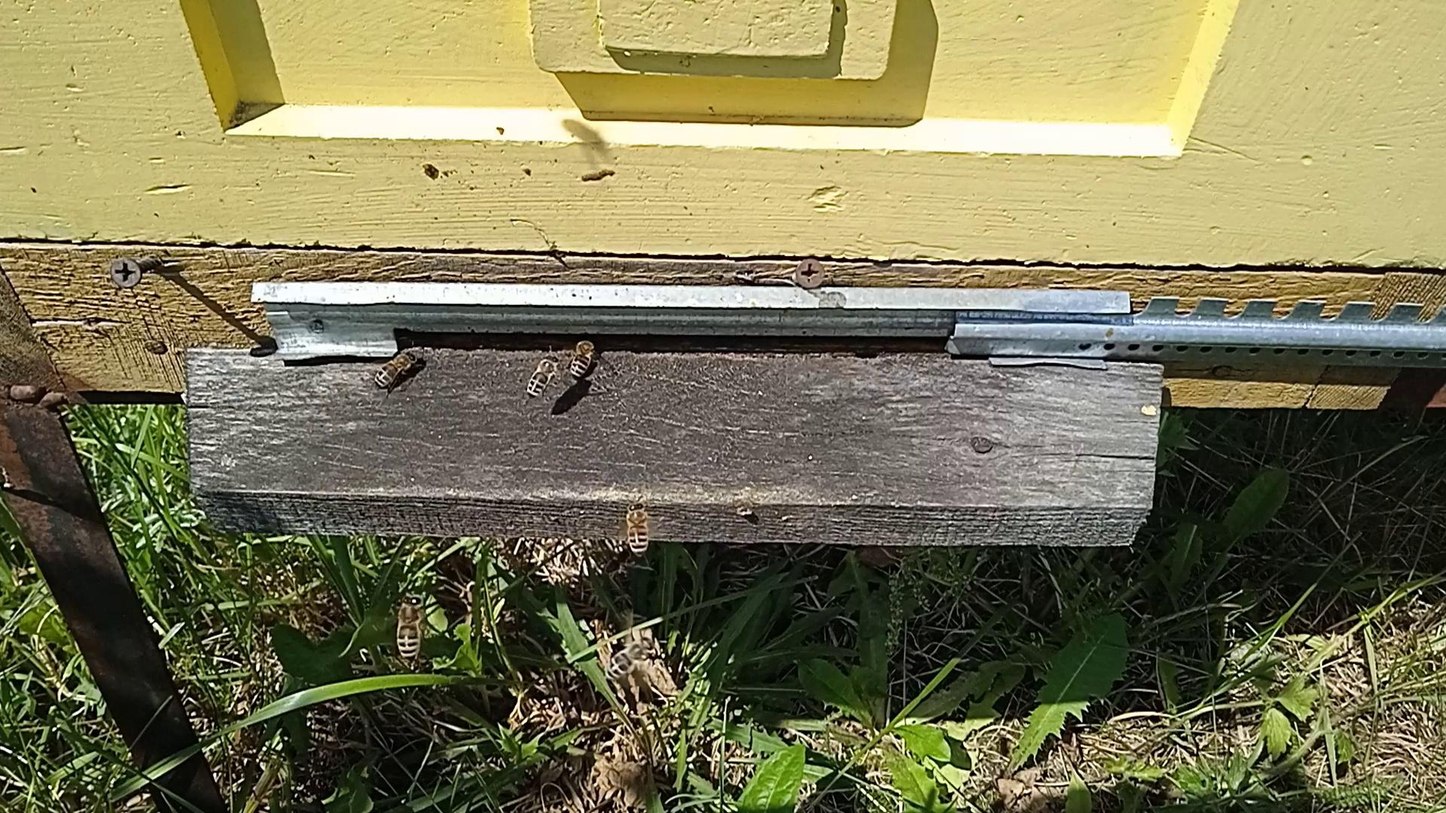worker-bee: (395, 593, 425, 662), (375, 349, 420, 389), (525, 352, 564, 398), (606, 642, 650, 679), (625, 501, 651, 557), (567, 337, 599, 379)
